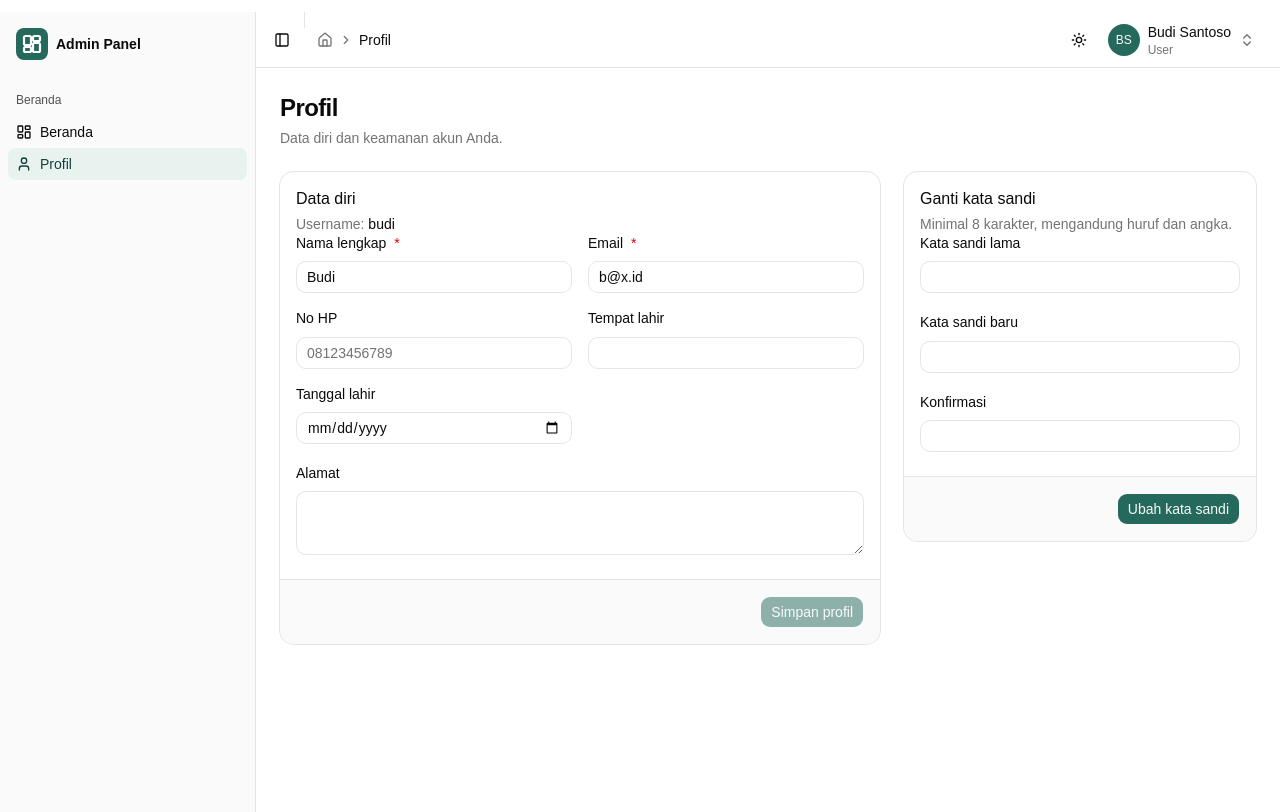
session and account pages › changes the own password
Type "salah123" into the password field labelled "Kata sandi lama".
click(1080, 277); type("salah123")  # box [920, 261, 1240, 293]
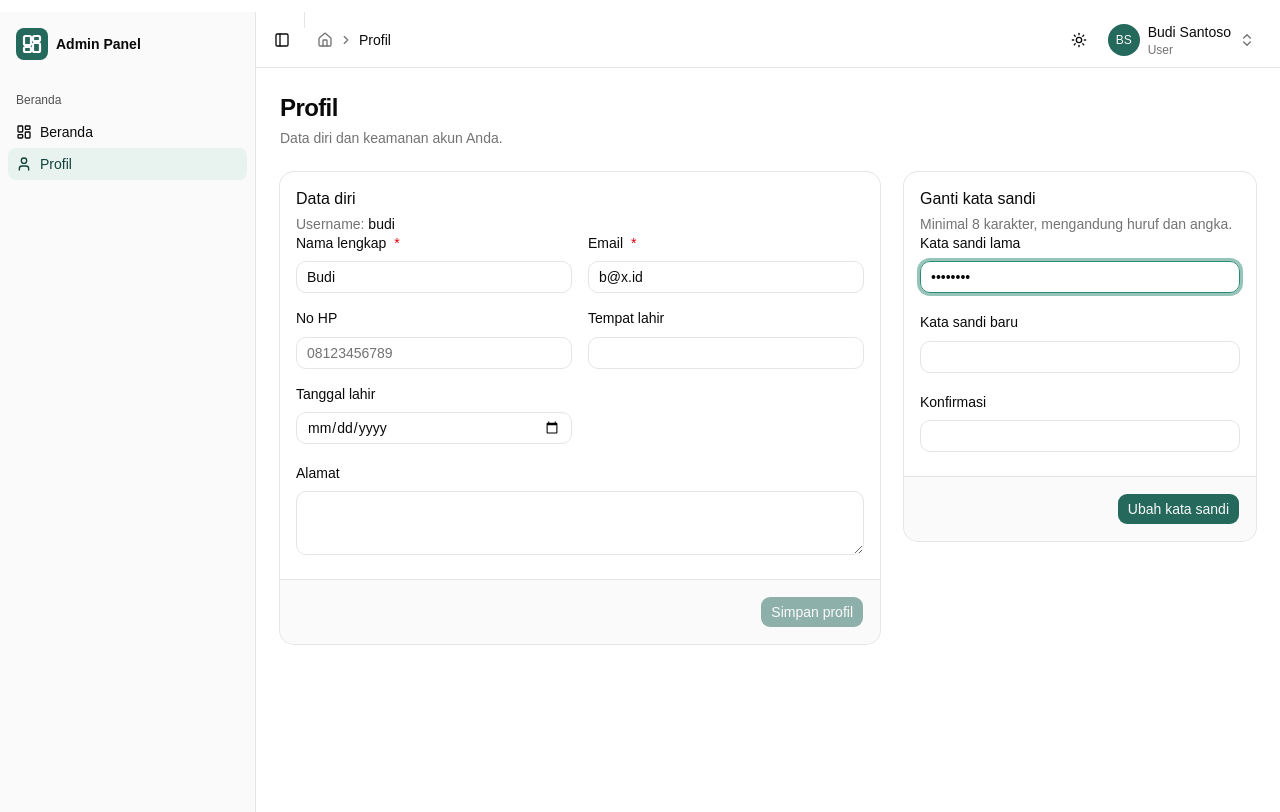
Type "BaruSekali1" into the password field labelled "Kata sandi baru".
click(1080, 356); type("BaruSekali1")  # box [920, 340, 1240, 372]
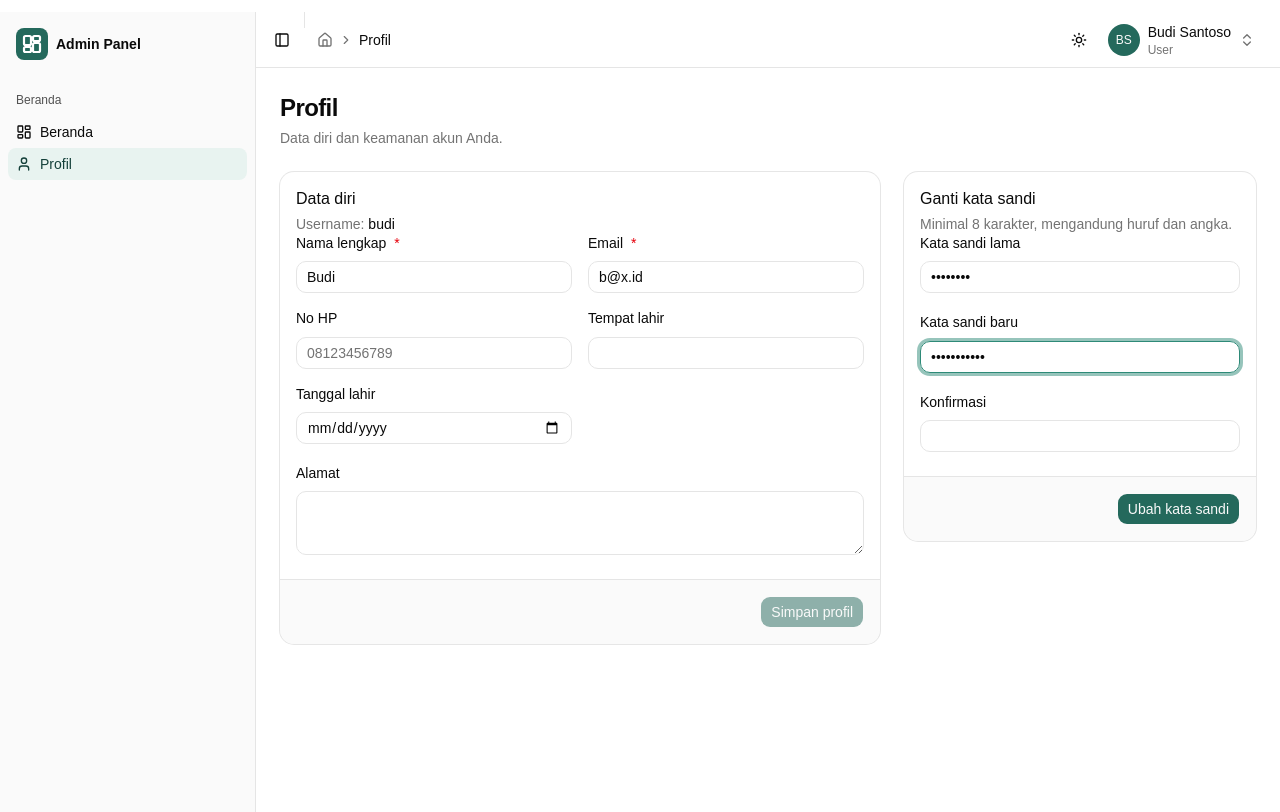
Type "BaruSekali1" into the password field labelled "Konfirmasi".
click(1080, 436); type("BaruSekali1")  # box [920, 420, 1240, 452]
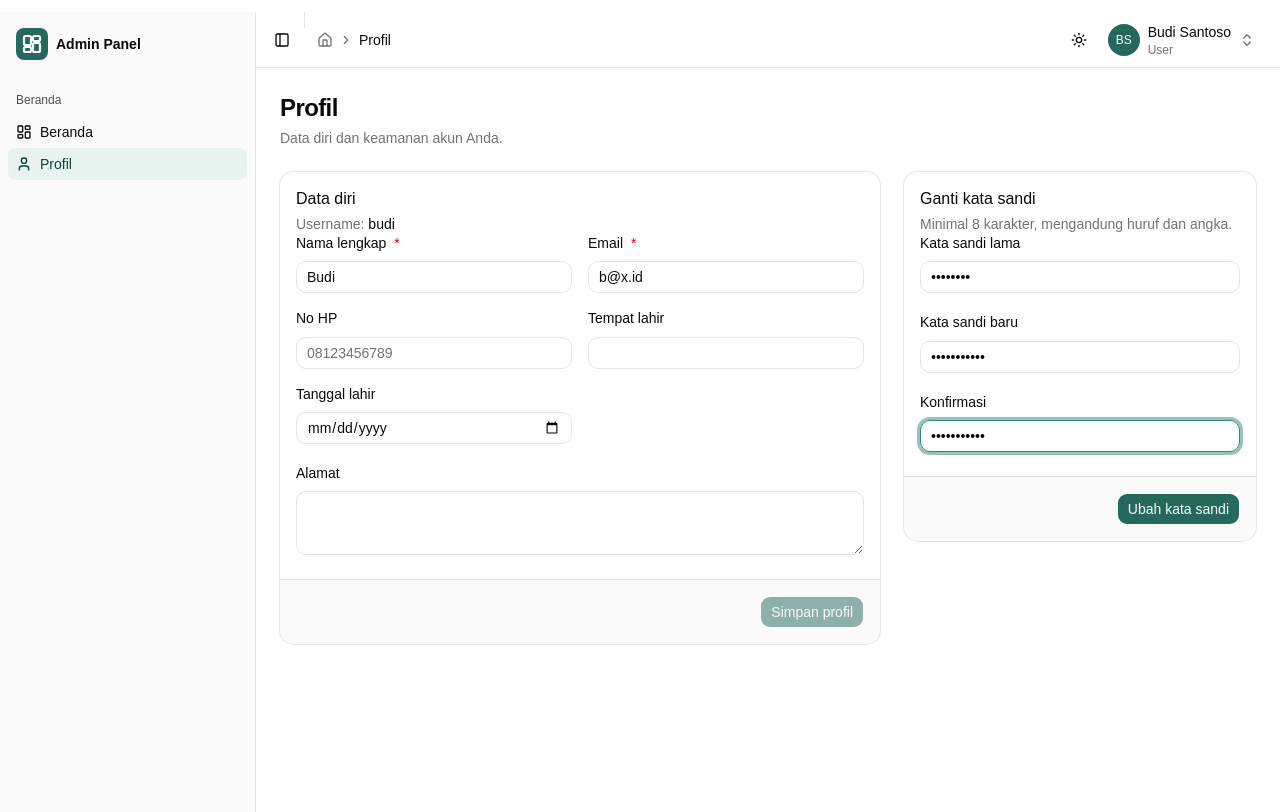
Click the button "Ubah kata sandi".
click(1178, 509)  # box [1117, 493, 1240, 525]
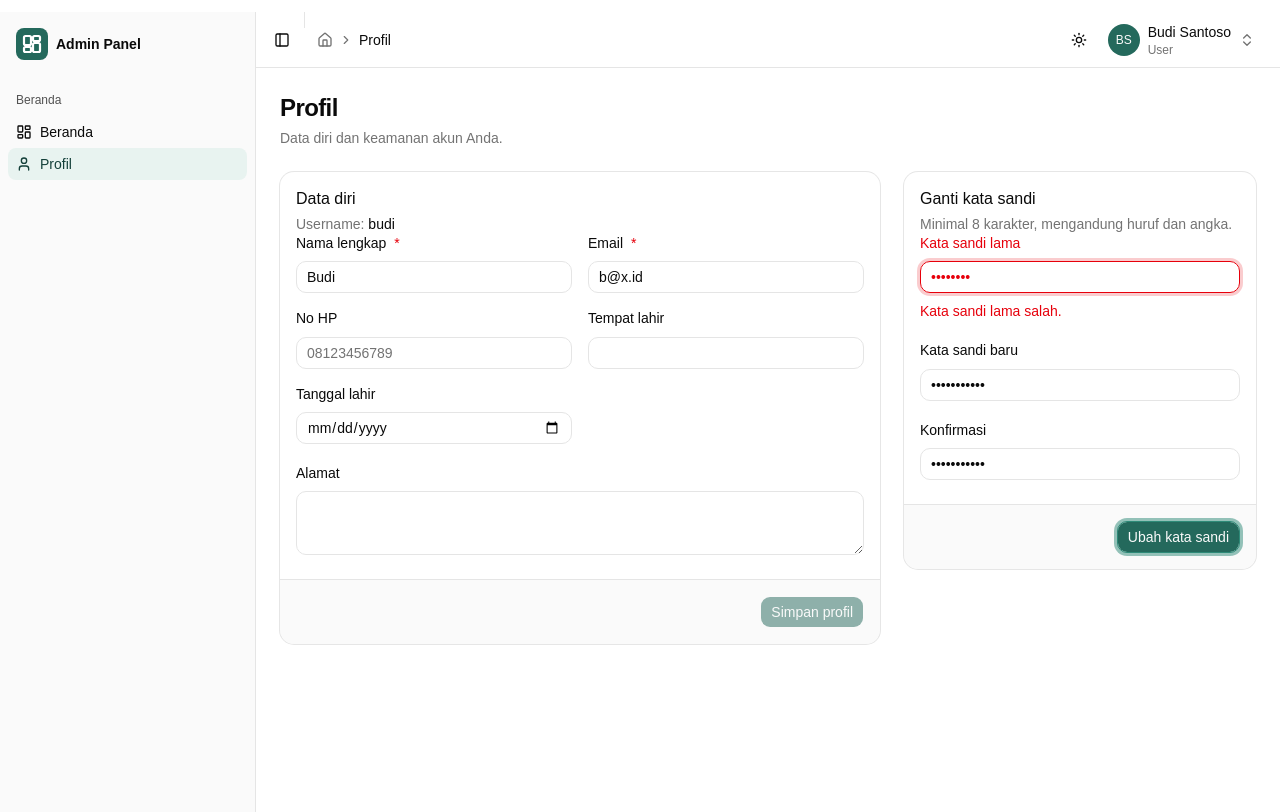
Expected: the text "Kata sandi lama salah." is shown, [920, 303, 1062, 319]
